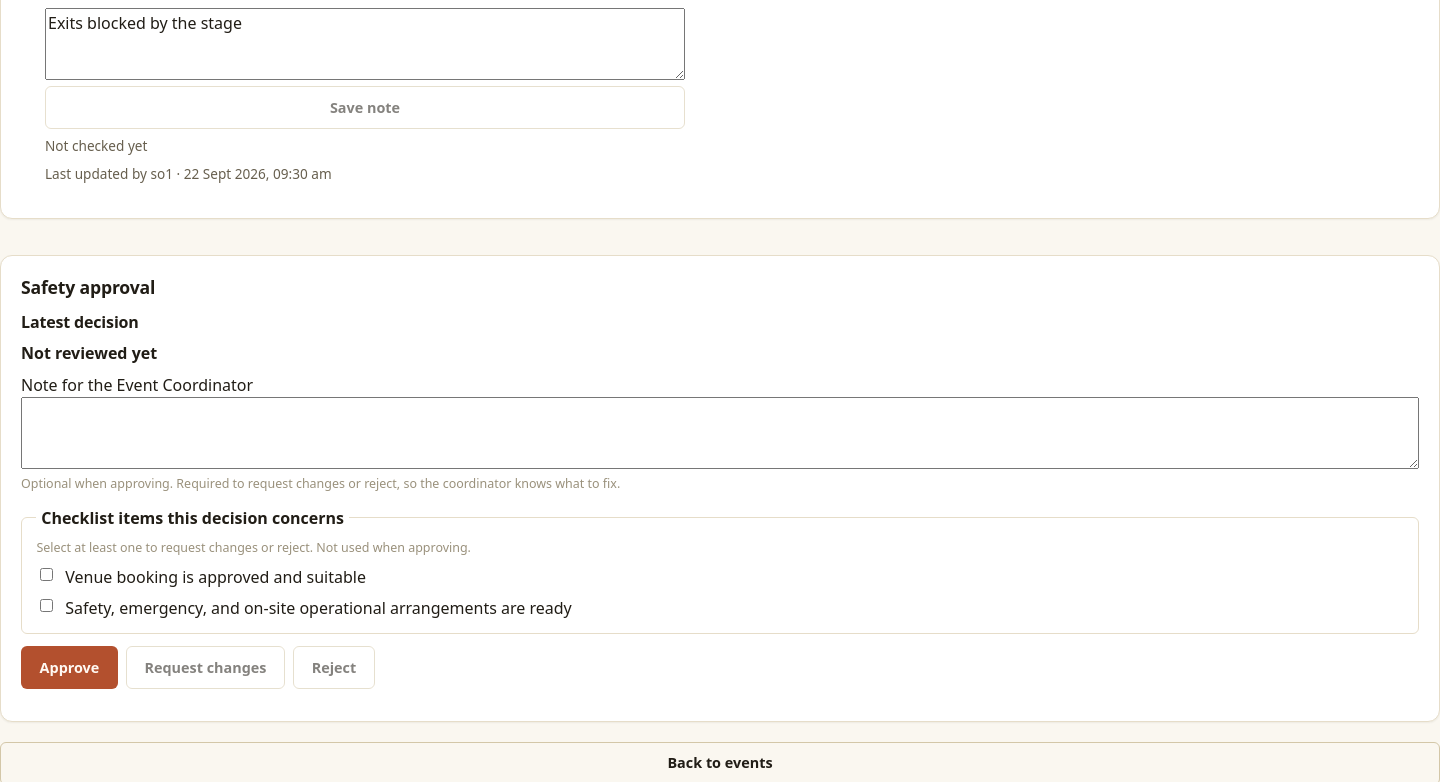
Test: SO-C5 / SO-C6 Safety Officer decisions › SO-C5 AC5, SO-C6 AC5 (negative): approving sends no checklist items, even if some were ticked
(page scrolled)
Click the checkbox labelled "Venue booking is approved and suitable".
click(47, 574)  # box [40, 568, 53, 581]
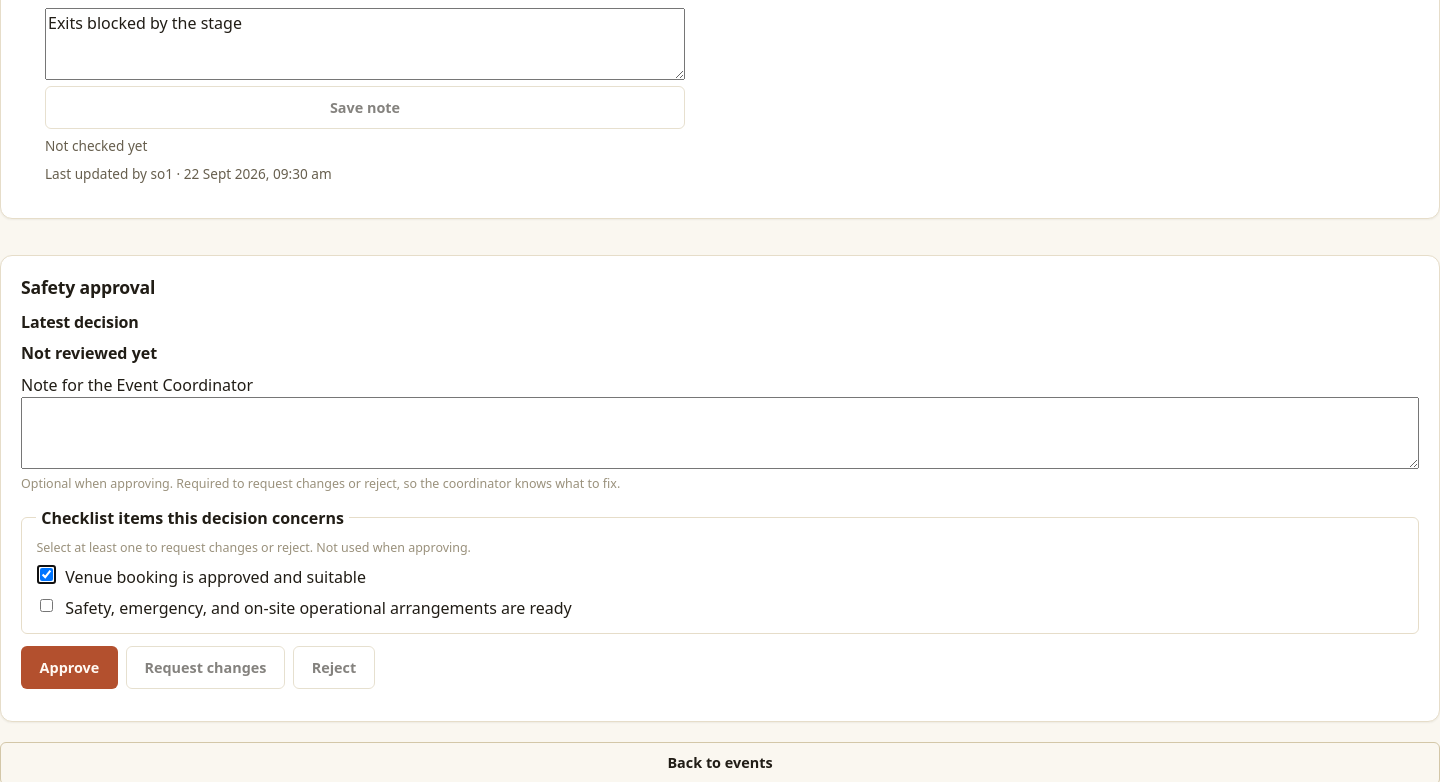
Click the button "Approve".
click(69, 667)  # box [21, 646, 118, 689]
(page scrolled)
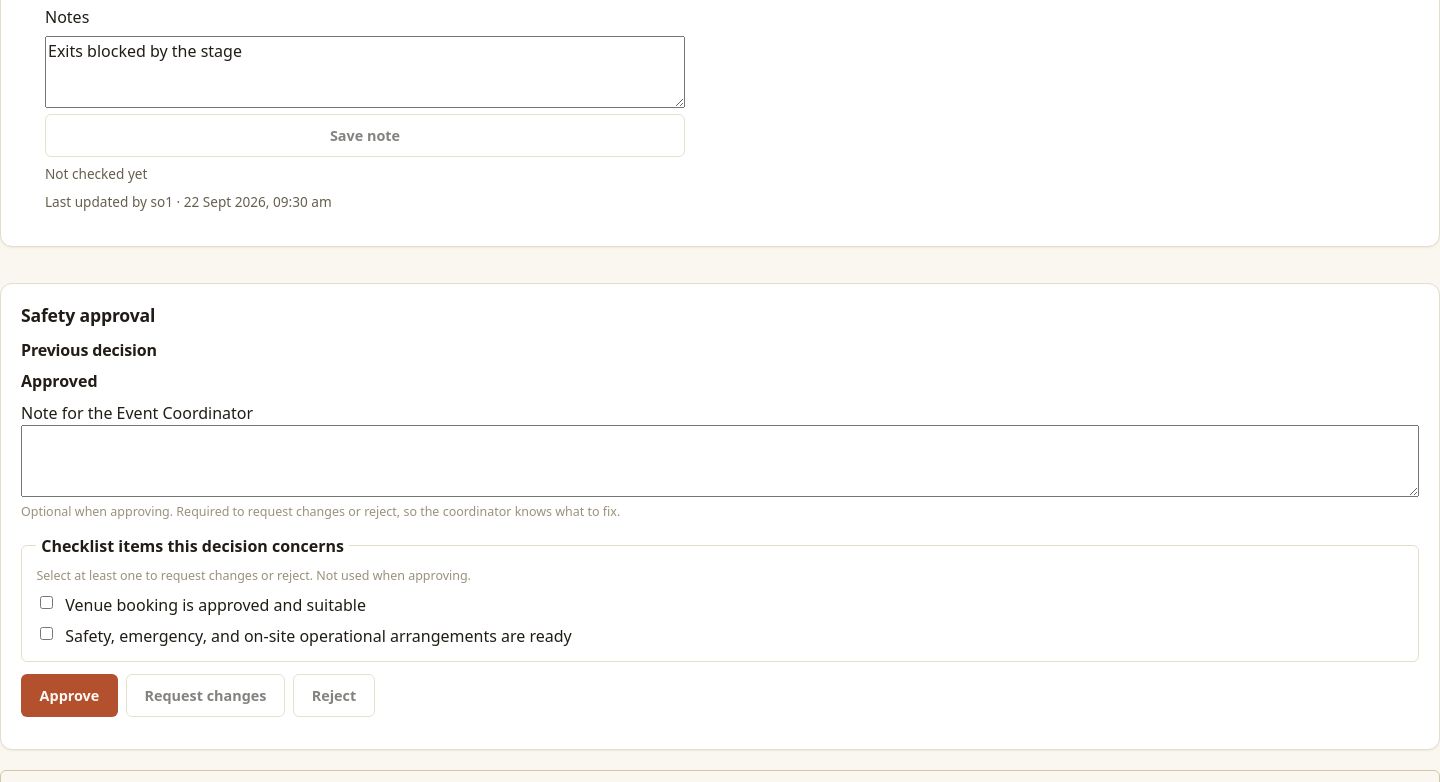
Now the text "Approved" is shown, box [21, 370, 98, 392]
